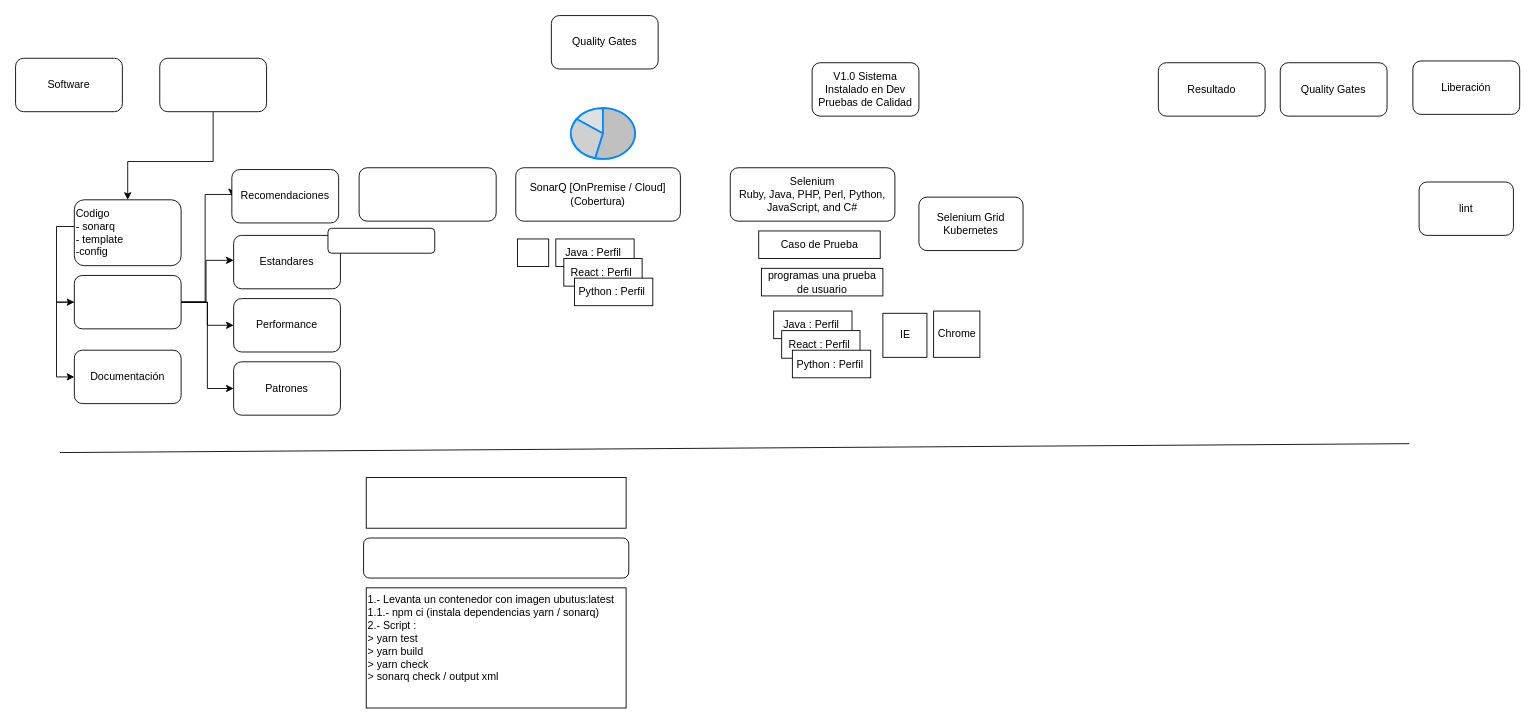
This 1535x724 diagram has some shape labels left out. Each missing label, with the centre of its shape:
Buenas Practicas: point 127,302
Control de Calidad: point 213,84
Git: point 533,252
Git Actions -> check planilla.yml sobre . codigo -> reporte calidad: point 495,502
Pruebas Unitarias: point 381,240
push / pull request: point 496,557
xslt / xml Plantillas / Procesadores: point 427,194
